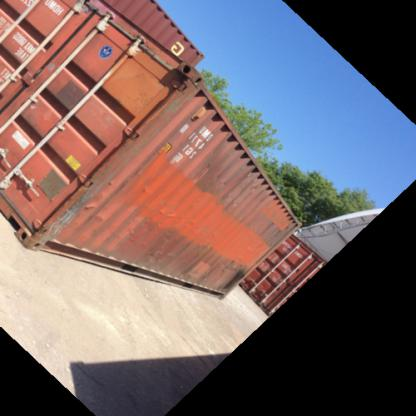Damage: (42, 199, 112, 254), (218, 256, 246, 296), (139, 241, 176, 265), (257, 215, 289, 239), (244, 173, 266, 206), (199, 160, 227, 185), (150, 203, 184, 221), (134, 181, 155, 197)
